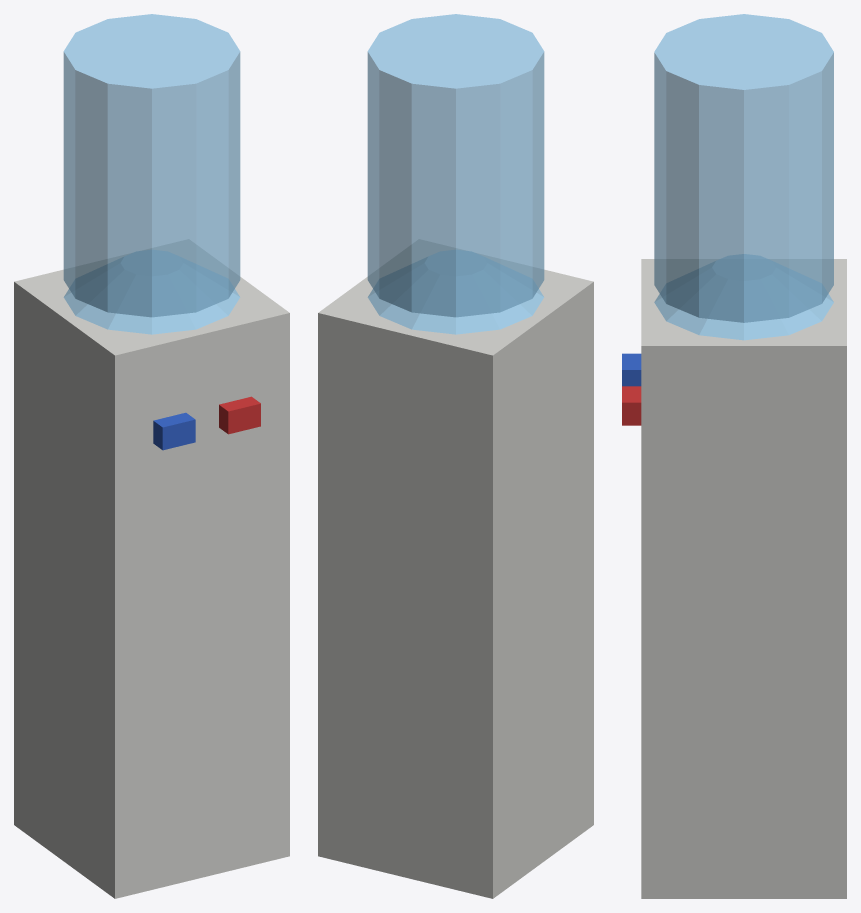
File: water_cooler.glb
3 renders of one model, left to right at view 1: azimuth 30°, elevation 25°; view 2: azimuth 150°, elevation 25°; view 3: azimuth 270°, elevation 25°, orthographic.
Parts seen in each view (by area): view 1: stand_cooler_white, bottle_cooler_bottle, neck_cooler_bottle, taps_cooler_taps, taps_cooler_hot; view 2: stand_cooler_white, bottle_cooler_bottle, neck_cooler_bottle; view 3: stand_cooler_white, bottle_cooler_bottle, neck_cooler_bottle, taps_cooler_hot, taps_cooler_taps.
Part boxes in pixels (x1,y1,x2,y2): stand_cooler_white: (14, 239, 289, 898); bottle_cooler_bottle: (63, 14, 240, 317); neck_cooler_bottle: (63, 250, 240, 334); taps_cooler_taps: (153, 412, 195, 450); taps_cooler_hot: (219, 396, 260, 434); stand_cooler_white: (318, 239, 593, 898); bottle_cooler_bottle: (367, 14, 544, 317); neck_cooler_bottle: (367, 250, 544, 334); stand_cooler_white: (641, 259, 846, 898); bottle_cooler_bottle: (654, 14, 833, 322); neck_cooler_bottle: (654, 254, 833, 340); taps_cooler_hot: (622, 386, 641, 425); taps_cooler_taps: (622, 353, 641, 386).
Bounding box in the file's own units: 0.32 × 1.38 × 0.35.
